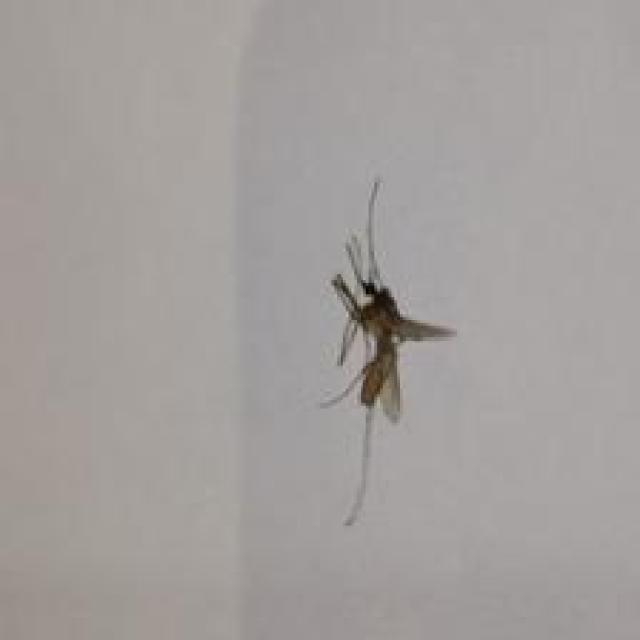Culex: (317, 177, 457, 526)
